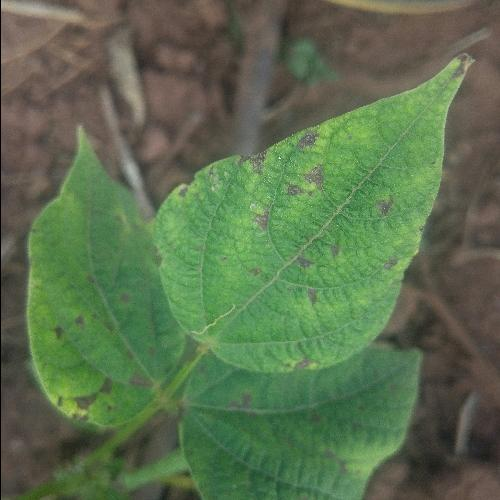hawar: (202, 112, 438, 301), (41, 280, 140, 442)
